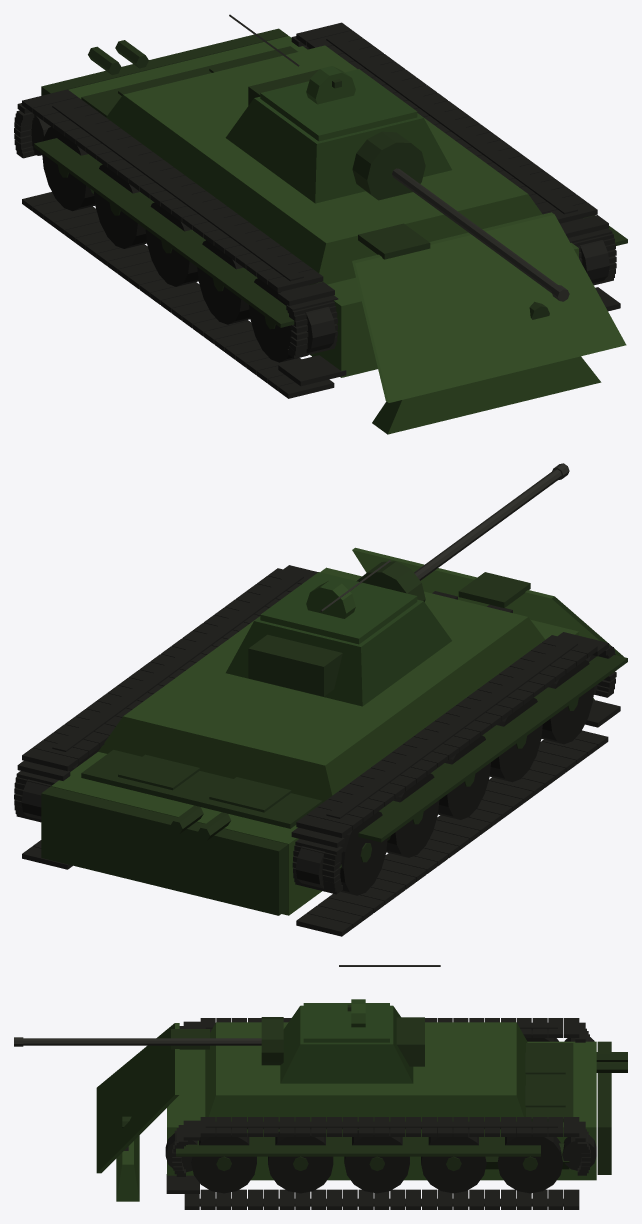
3 renders of one model, top to bottom at view 1: azimuth 30°, elevation 25°; view 2: azimuth 150°, elevation 25°; view 3: azimuth 270°, elevation 25°, orthographic. The views are drawn at different scales.
Visible parts, largest first — view 1: glacis_upper, hull_upper, track_links_l, turret_base, track_links_r, fender_l, lower_glacis, hull_lower, turret_roof, track_guide_r, track_guide_l, mantlet (+13 smaller); view 2: hull_upper, track_links_l, rear_plate, track_links_r, turret_base, fender_l, turret_roof, hull_lower, engine_deck, turret_rear_ext, glacis_upper, track_guide_l (+14 smaller); view 3: hull_upper, track_links_r, glacis_upper, hull_lower, turret_base, fender_r, turret_roof, track_guide_r, wheel_outer_r_0, wheel_outer_r_2, wheel_outer_r_3, wheel_outer_r_1 (+15 smaller).
Part boxes in pixels (x1=…): glacis_upper: x1=352, y1=212, x2=626, y2=402; hull_upper: x1=106, y1=45, x2=542, y2=284; track_links_l: x1=14, y1=89, x2=346, y2=398; turret_base: x1=225, y1=97, x2=451, y2=203; track_links_r: x1=291, y1=22, x2=620, y2=311; fender_l: x1=34, y1=138, x2=294, y2=327; lower_glacis: x1=372, y1=356, x2=601, y2=434; hull_lower: x1=68, y1=36, x2=578, y2=377; turret_roof: x1=260, y1=69, x2=417, y2=141; track_guide_r: x1=326, y1=35, x2=577, y2=214; track_guide_l: x1=52, y1=102, x2=303, y2=281; mantlet: x1=352, y1=131, x2=425, y2=200; hull_upper: x1=98, y1=567, x2=545, y2=802; track_links_l: x1=291, y1=632, x2=620, y2=936; rear_plate: x1=41, y1=786, x2=288, y2=915; track_links_r: x1=14, y1=565, x2=317, y2=869; turret_base: x1=226, y1=599, x2=451, y2=706; fender_l: x1=358, y1=655, x2=627, y2=842; turret_roof: x1=260, y1=572, x2=417, y2=644; hull_lower: x1=51, y1=619, x2=578, y2=915; engine_deck: x1=81, y1=750, x2=322, y2=828; turret_rear_ext: x1=248, y1=634, x2=342, y2=696; glacis_upper: x1=352, y1=547, x2=623, y2=656; track_guide_l: x1=326, y1=640, x2=577, y2=818; hull_upper: x1=205, y1=1022, x2=527, y2=1121; track_links_r: x1=166, y1=1117, x2=590, y2=1209; glacis_upper: x1=96, y1=1023, x2=179, y2=1173; hull_lower: x1=167, y1=1041, x2=596, y2=1180; turret_base: x1=280, y1=1005, x2=413, y2=1083; fender_r: x1=176, y1=1134, x2=540, y2=1156; turret_roof: x1=303, y1=1003, x2=389, y2=1042; track_guide_r: x1=199, y1=1121, x2=563, y2=1206; wheel_outer_r_0: x1=497, y1=1129, x2=562, y2=1193; wheel_outer_r_2: x1=344, y1=1129, x2=409, y2=1193; wheel_outer_r_3: x1=268, y1=1129, x2=333, y2=1193; wheel_outer_r_1: x1=421, y1=1129, x2=486, y2=1193.
Size of the model in its own units: 3.8 by 2.56 by 7.86.
